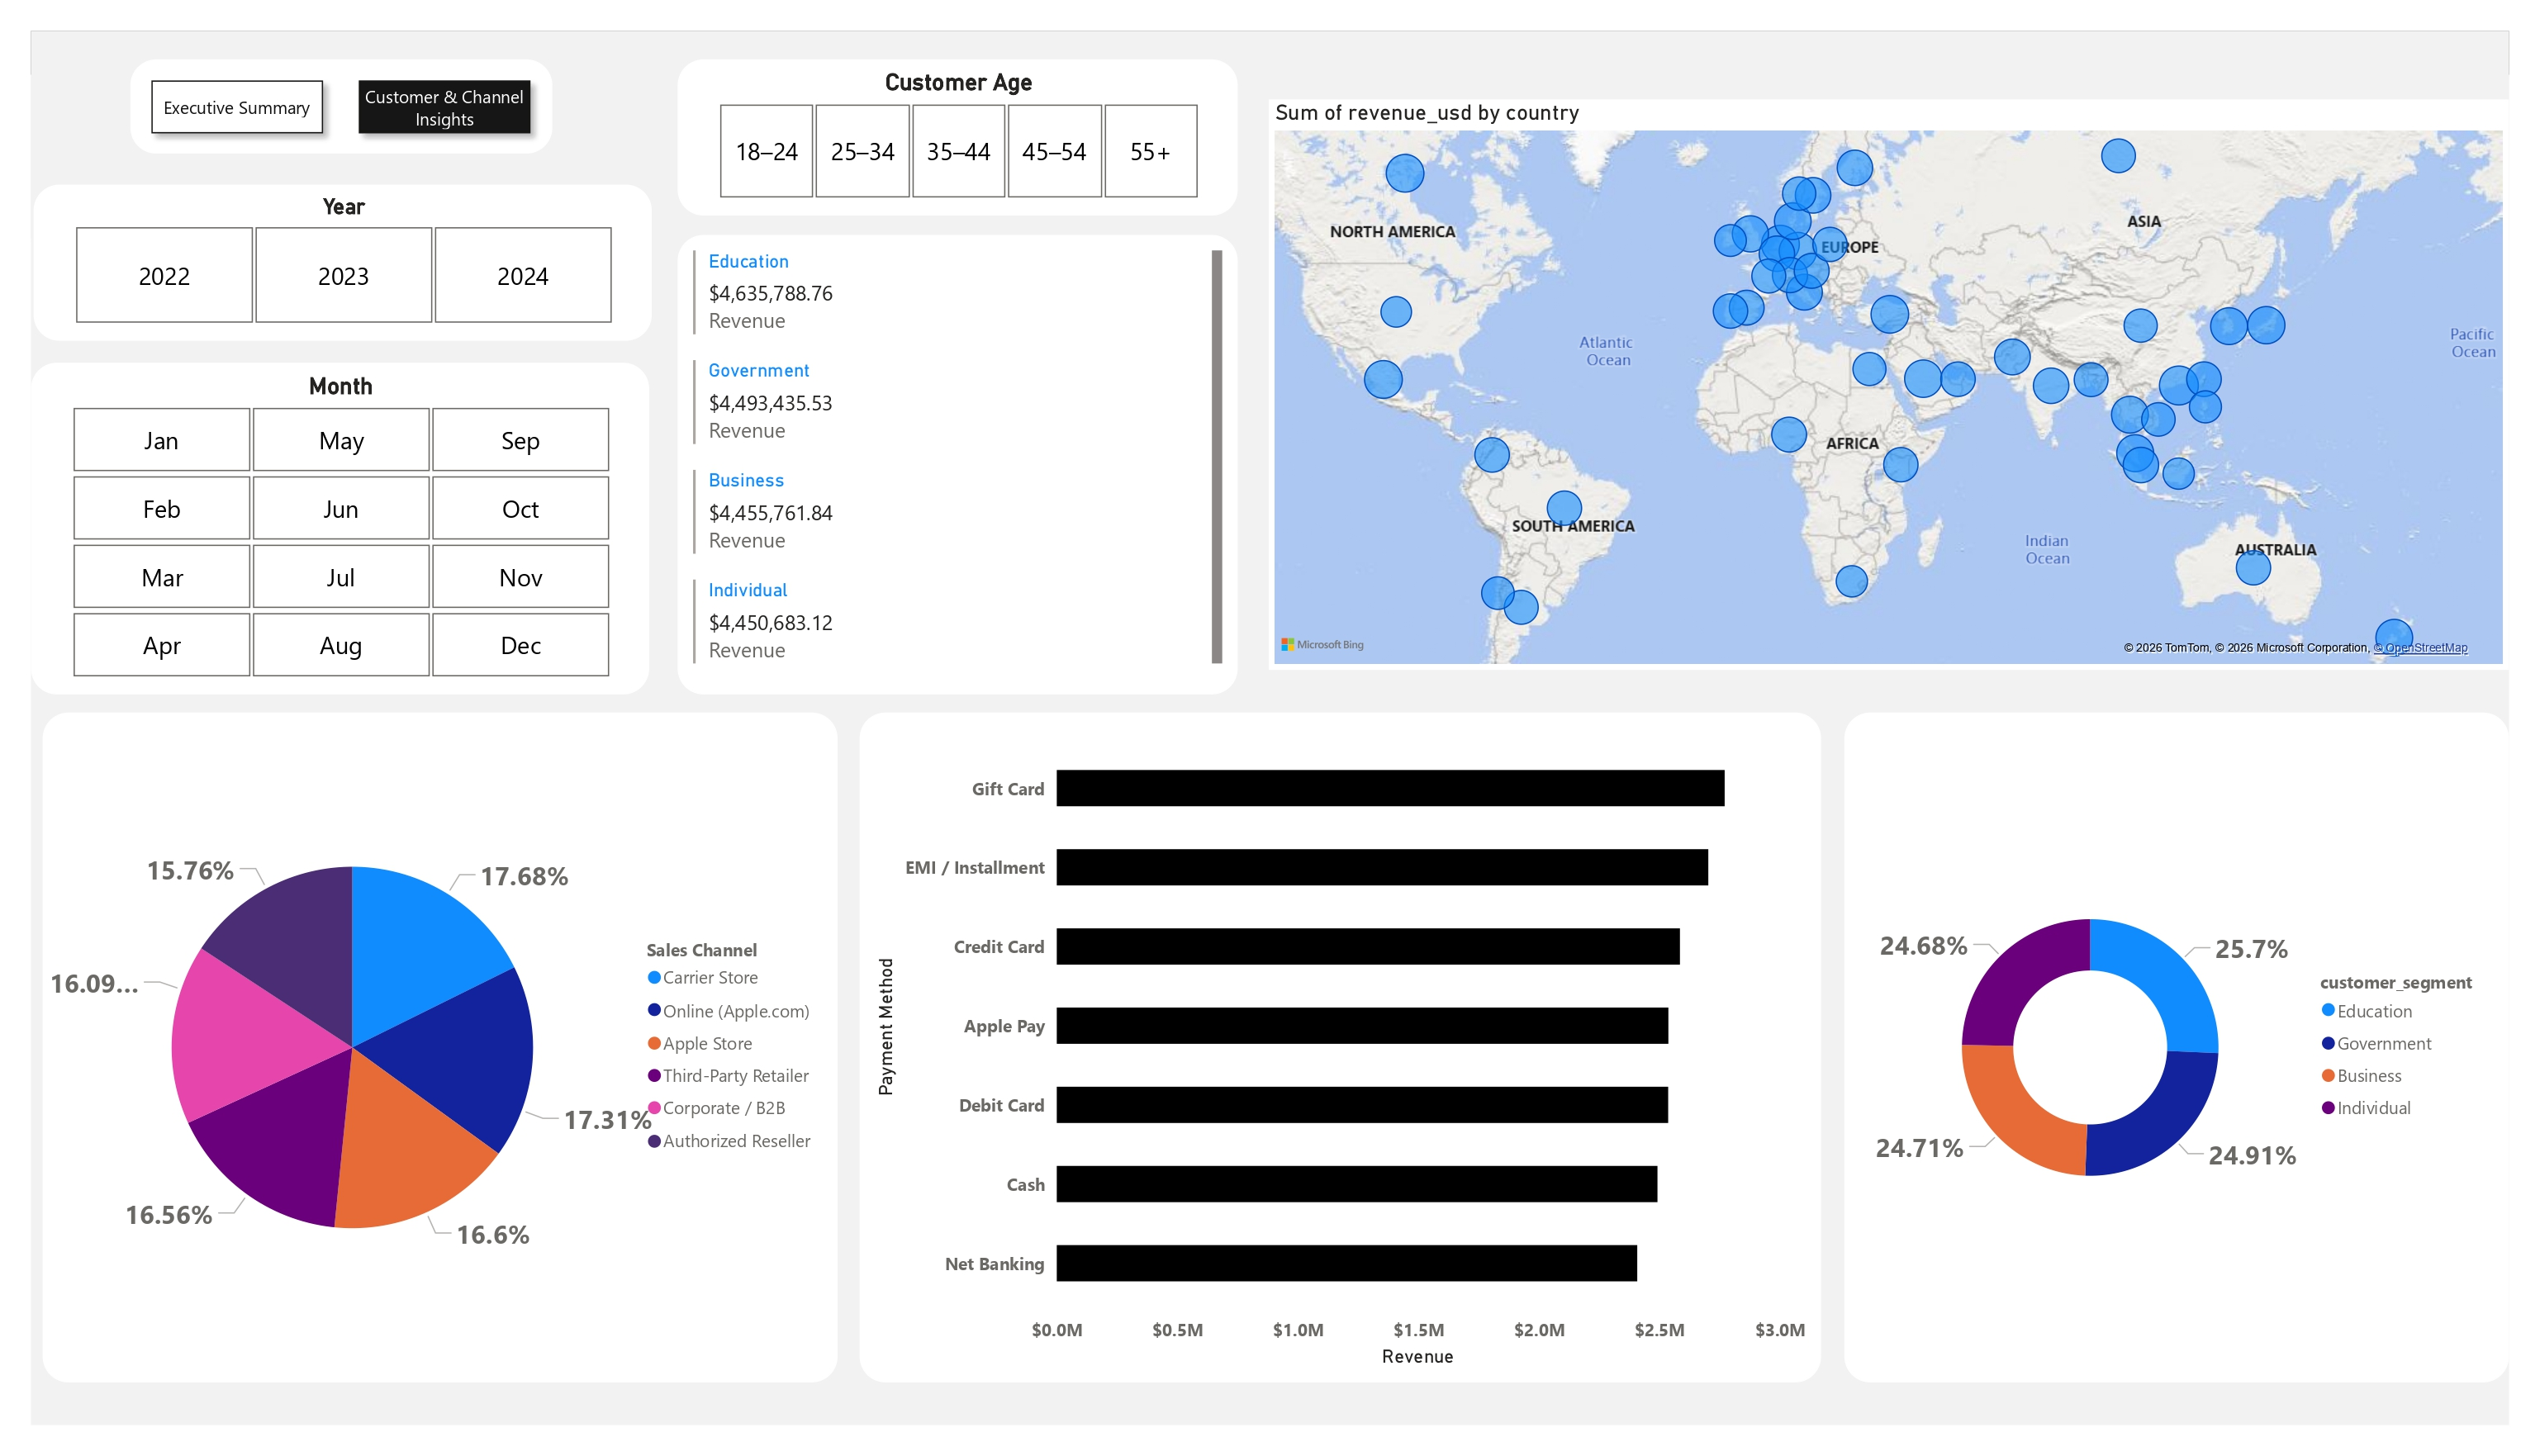

What the dashboard file says about the page in this screenshot:
{"tool":"powerbi","page":{"name":"Customer & Channel Insights","canvas":[1920,1080],"ordinal":1},"visuals":[{"type":"multiRowCard","fields":{"Values":["apple_global_sales_dataset.customer_segment","Sum(apple_global_sales_dataset.revenue_usd)"]},"box":[500.7,157.7,434.7,355.8],"z":0},{"type":"pieChart","fields":{"Category":["apple_global_sales_dataset.sales_channel"],"Y":["Sum(apple_global_sales_dataset.revenue_usd)"]},"box":[9.2,528.3,616.3,519.1],"z":1000},{"type":"clusteredBarChart","fields":{"Category":["apple_global_sales_dataset.payment_method"],"Y":["Sum(apple_global_sales_dataset.revenue_usd)"]},"box":[642,528.3,744.7,519.1],"z":2000},{"type":"map","fields":{"Category":["apple_global_sales_dataset.country"],"Size":["Sum(apple_global_sales_dataset.revenue_usd)"]},"box":[959.3,53.2,961.1,442.1],"z":3000},{"type":"slicer","title":"Year","fields":{"Values":["DateTable.Year"]},"box":[1.8,119.2,478.7,121.1],"z":4000},{"type":"slicer","title":"Month","fields":{"Values":["DateTable.Month Short"]},"box":[0,256.8,478.7,256.8],"z":5000},{"type":"slicer","title":"Customer Age","fields":{"Values":["apple_global_sales_dataset.customer_age_group"]},"box":[500.7,22,434.7,121.1],"z":6000},{"type":"donutChart","fields":{"Category":["apple_global_sales_dataset.customer_segment"],"Y":["Sum(apple_global_sales_dataset.revenue_usd)"]},"box":[1405,528.3,515.4,519.1],"z":7000},{"type":"pageNavigator","box":[77,22,326.5,73.4],"z":7002}]}

Visuals, with their boxes on the page's 1920x1080 design canvas (x1, y1, x2, y2). These are canvas units, not pixel positions in the 2540x1456 screenshot, which may show the page scaled, cropped or inside an application window:
multiRowCard - apple_global_sales_dataset.customer_segment x Sum(apple_global_sales_dataset.revenue_usd): (501, 158, 935, 514)
pieChart - apple_global_sales_dataset.sales_channel x Sum(apple_global_sales_dataset.revenue_usd): (9, 528, 626, 1047)
clusteredBarChart - apple_global_sales_dataset.payment_method x Sum(apple_global_sales_dataset.revenue_usd): (642, 528, 1387, 1047)
map - apple_global_sales_dataset.country x Sum(apple_global_sales_dataset.revenue_usd): (959, 53, 1920, 495)
"Year" slicer: (2, 119, 480, 240)
"Month" slicer: (0, 257, 479, 514)
"Customer Age" slicer: (501, 22, 935, 143)
donutChart - apple_global_sales_dataset.customer_segment x Sum(apple_global_sales_dataset.revenue_usd): (1405, 528, 1920, 1047)
pageNavigator: (77, 22, 404, 95)
